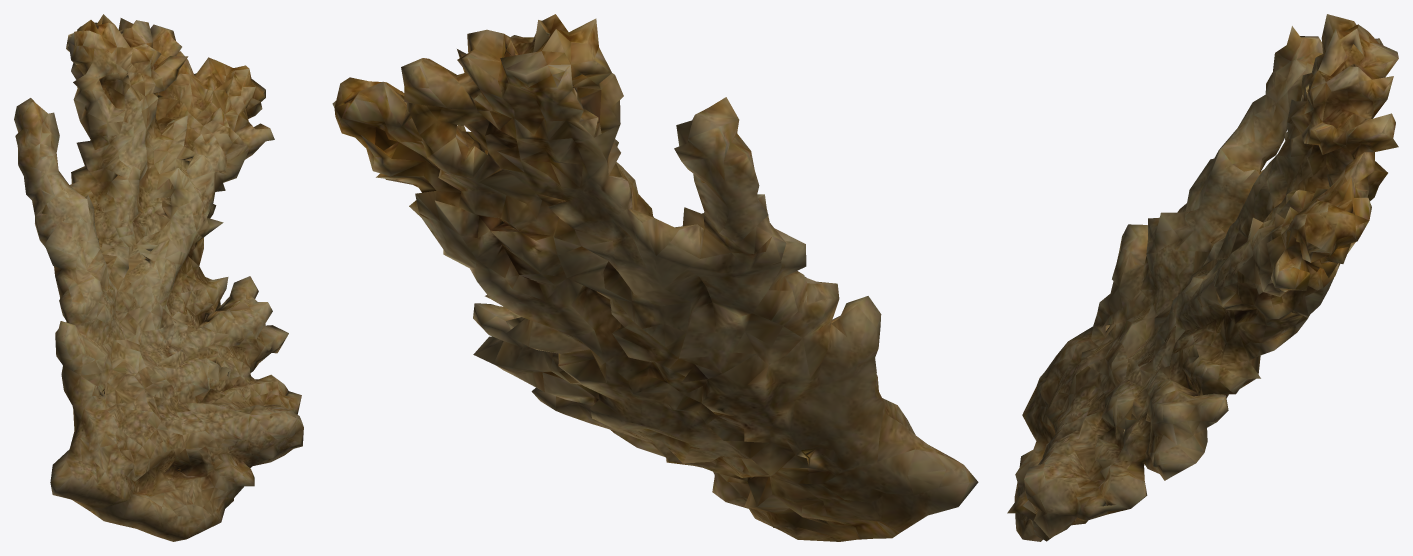
File: scan_coral_acropora.glb
The picture shows the model from 3 angles, left to right: view 1: azimuth 30°, elevation 25°; view 2: azimuth 150°, elevation 25°; view 3: azimuth 270°, elevation 25°; orthographic projection. The views are drawn at different scales.
Visible parts, largest first — view 1: scan_coral_acropora; view 2: scan_coral_acropora; view 3: scan_coral_acropora.
Boxes of the visible parts, x1,y1,x2,y2 form: scan_coral_acropora: (14,14,303,541); scan_coral_acropora: (332,14,978,541); scan_coral_acropora: (1007,14,1398,541).
Bounding box in the file's own units: 0.6276 × 0.7982 × 0.5309.
Materials: 1 (1 with a texture image).
